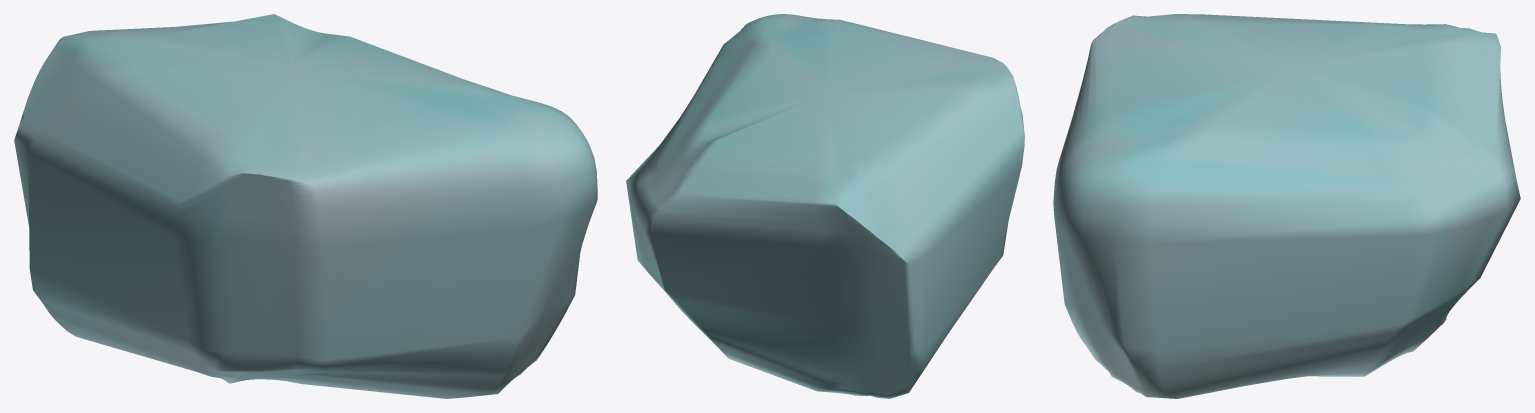
File: SM_Rock_03.glb
3 renders of one model, left to right at view 1: azimuth 30°, elevation 25°; view 2: azimuth 150°, elevation 25°; view 3: azimuth 270°, elevation 25°, orthographic. The views are drawn at different scales.
Parts seen in each view (by area): view 1: SM_Rock_03; view 2: SM_Rock_03; view 3: SM_Rock_03.
Part boxes in pixels (box(x1,y1,x2,y2)): SM_Rock_03: box(14, 14, 597, 398); SM_Rock_03: box(626, 14, 1024, 398); SM_Rock_03: box(1053, 14, 1520, 398).
Bounding box in the file's own units: 0.894 × 0.6273 × 0.9927.
